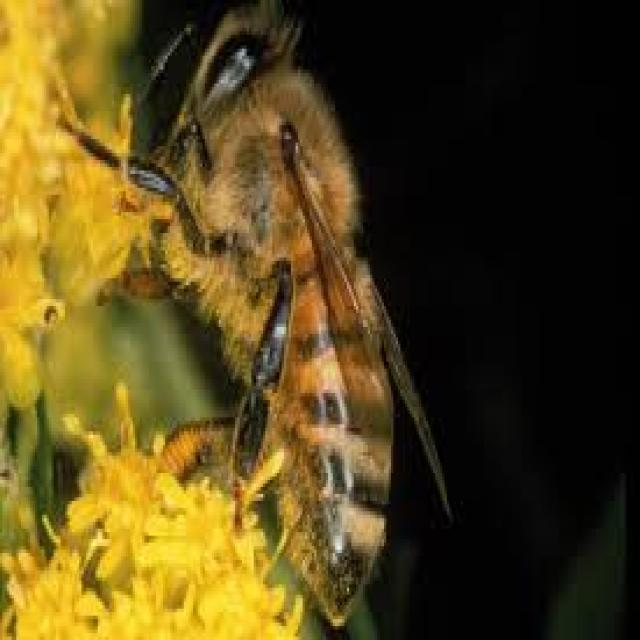Bees: (61, 3, 453, 626)
